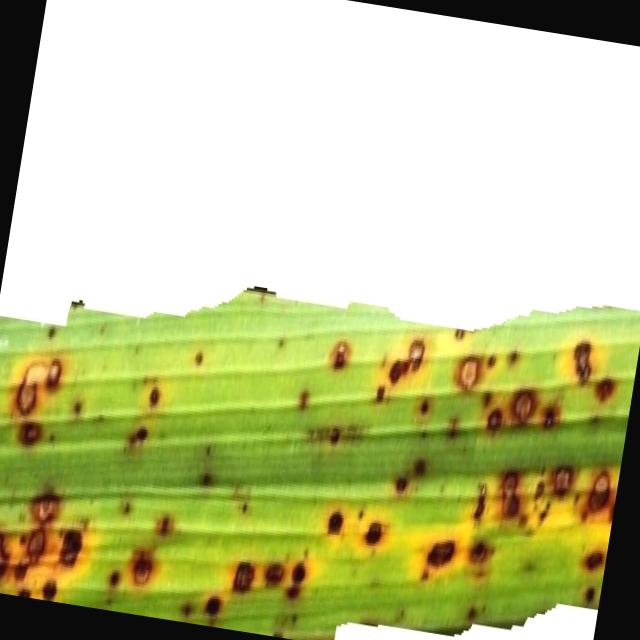leaf_spot: (0, 288, 640, 640)
